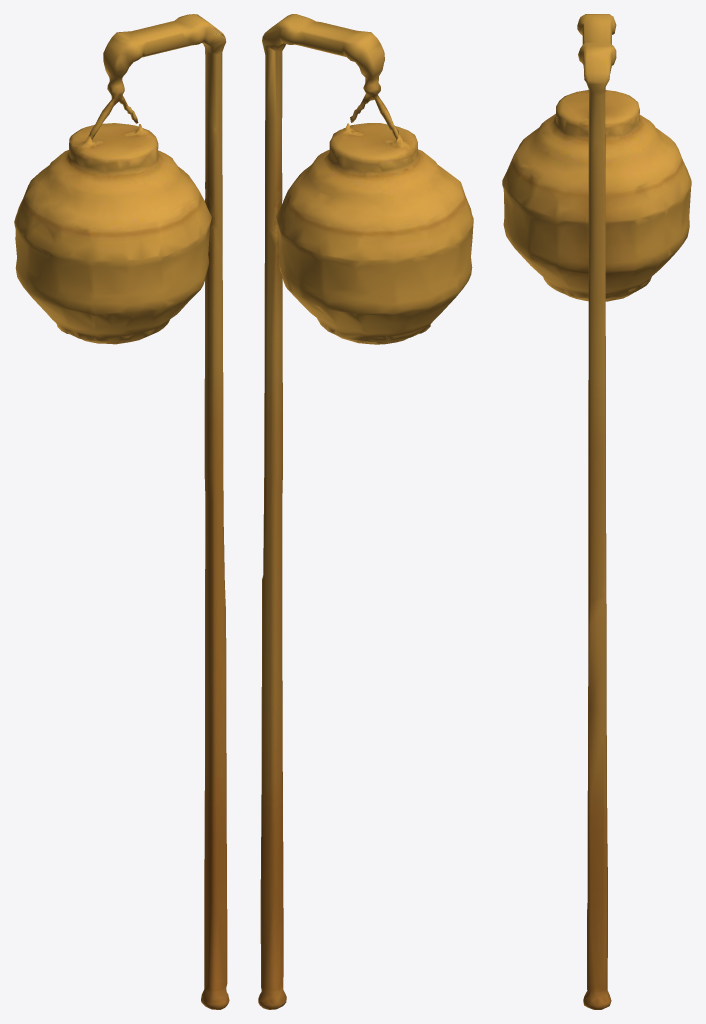
Rendered from lumen_piece-Bn_2EODE.glb.
3 views of the same model, side by side, from view 1: azimuth 30°, elevation 25°; view 2: azimuth 150°, elevation 25°; view 3: azimuth 270°, elevation 25° (orthographic). The views are drawn at different scales.
Parts seen in each view (by area): view 1: lumen_piece; view 2: lumen_piece; view 3: lumen_piece.
Boxes of the visible parts, x1,y1,x2,y2 form: lumen_piece: (14,14,229,1009); lumen_piece: (258,14,473,1009); lumen_piece: (502,14,691,1009).
Size of the model in its own units: 0.6341 by 3 by 0.5423.
Materials: 1 (1 with a texture image).
